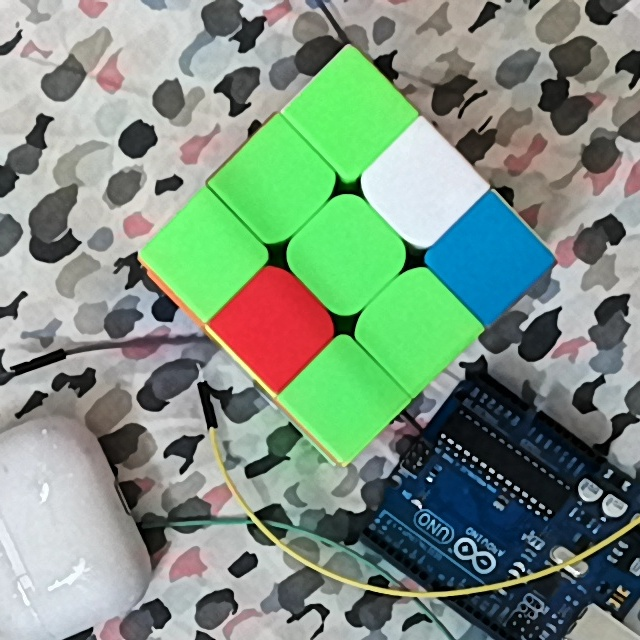tile: (312, 223, 383, 289), (380, 294, 449, 359), (306, 367, 377, 430), (315, 83, 382, 148), (244, 149, 308, 214), (461, 223, 523, 290), (239, 297, 309, 356), (172, 222, 237, 285), (391, 150, 452, 214)
